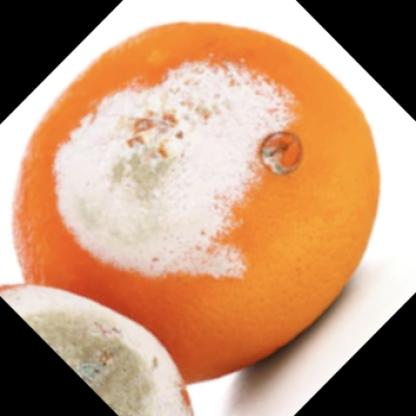rotten: (17, 22, 379, 388)
